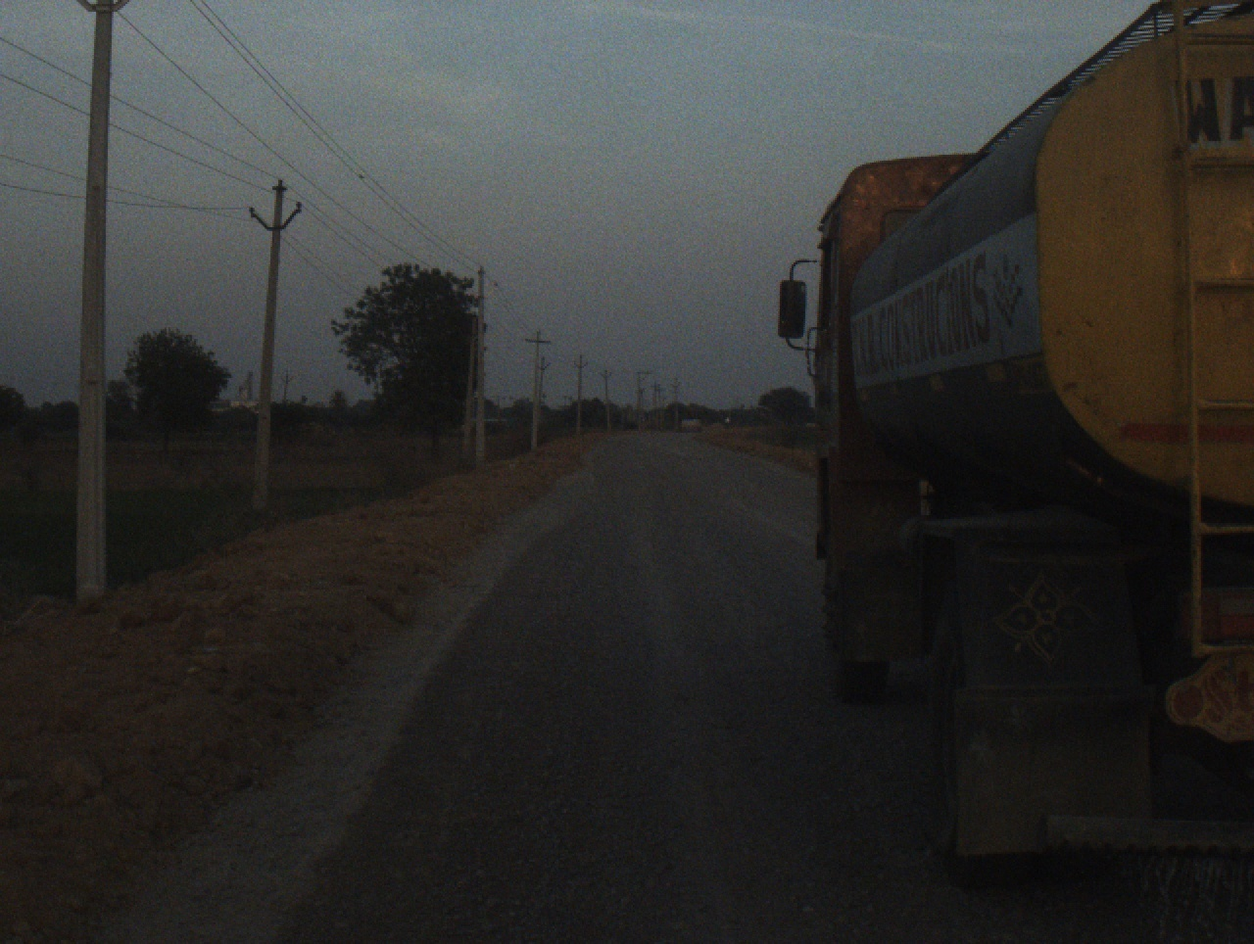truck: (776, 1, 1254, 892)
vehicle fallback: (678, 407, 704, 435)
